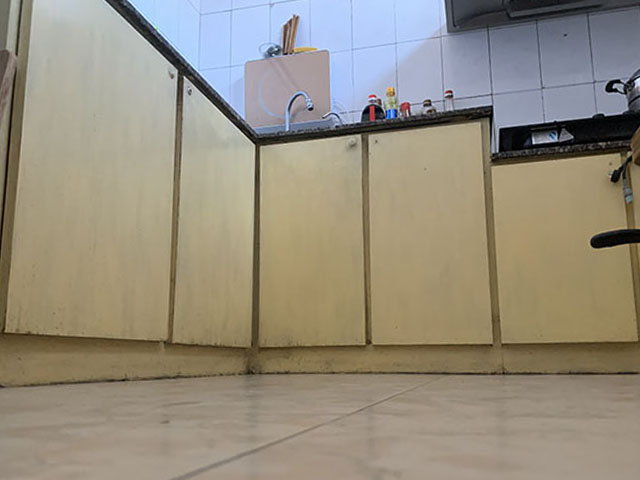cabinet: (1, 1, 254, 387), (256, 122, 640, 372)
